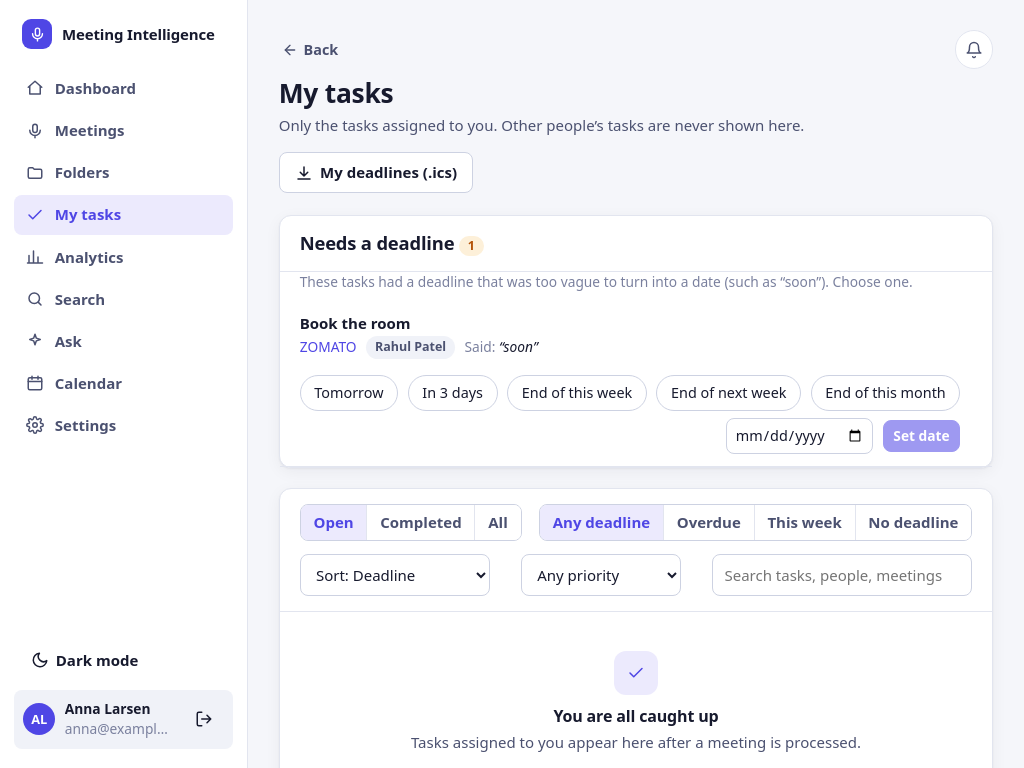
it: reviewing unclear deadlines on the Tasks page › a chosen date is saved with "Set date", which needs a date first
Check: the button with aria-label "Save deadline for Book the room" is disabled, box [883,420,960,452]
Step 1. Type "2030-05-17" into the date field named "Deadline for Book the room" → [800, 436], box [726,418,873,454]
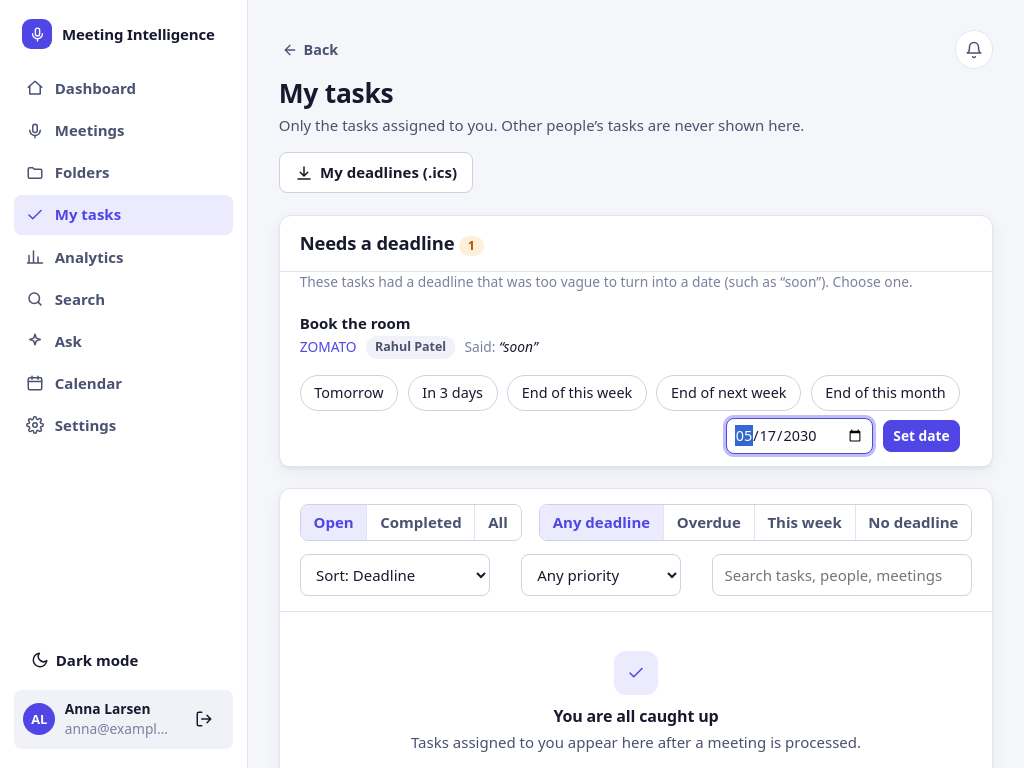
Check: the button with aria-label "Save deadline for Book the room" is enabled
Step 2. Click the button with aria-label "Save deadline for Book the room" → [922, 436], box [883,420,960,452]
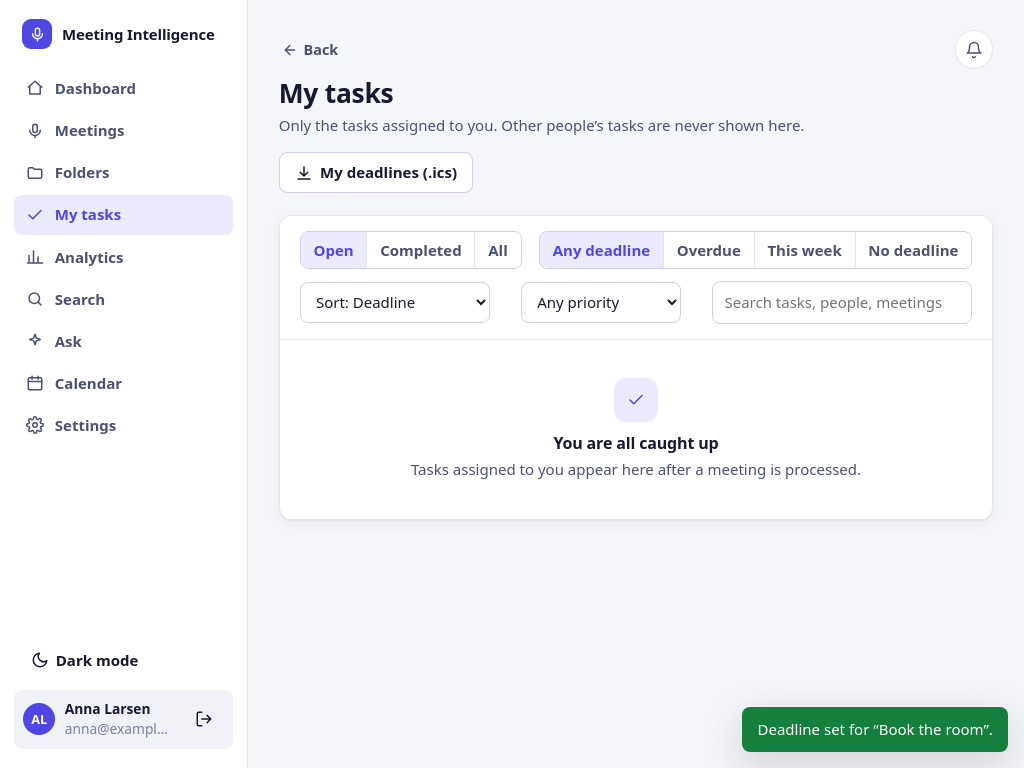
Check: the heading "Needs a deadline" is gone
